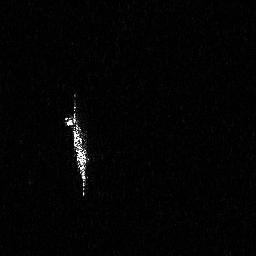ship: (63, 88, 94, 199)
